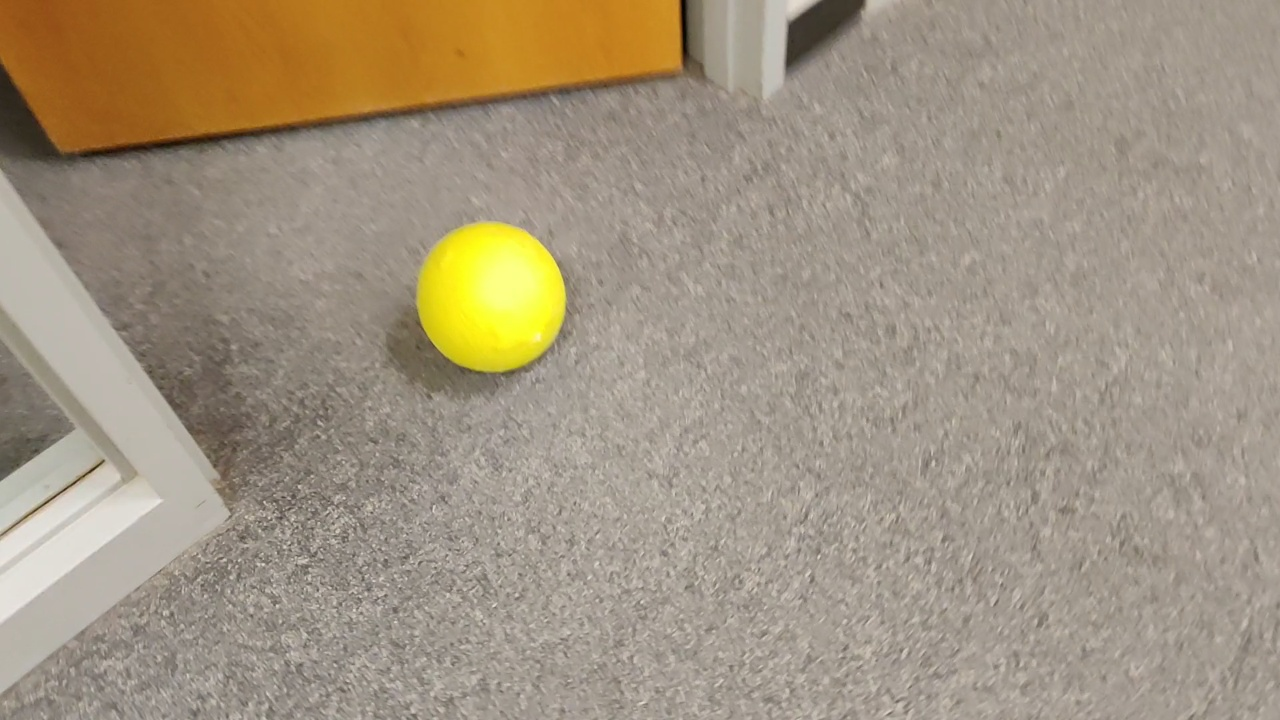Ball: (394, 217, 577, 378)
